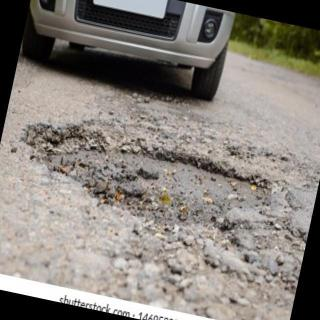pothole: (43, 127, 270, 229)
